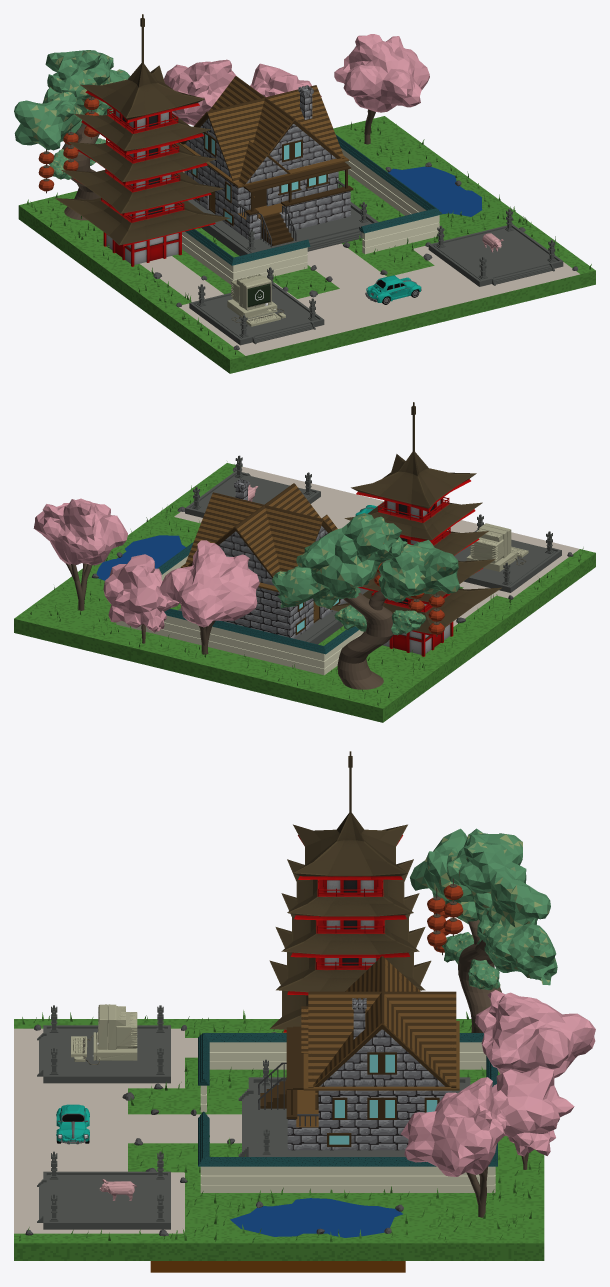
3 renders of one model, top to bottom at view 1: azimuth 30°, elevation 25°; view 2: azimuth 150°, elevation 25°; view 3: azimuth 270°, elevation 25°, orthographic. The views are drawn at different scales.
Visible parts, largest first — view 1: Cube.005, Cube.586, OBJRANDOM_RETRO_PC, VEHICLES_VOLKSWAGEN; view 2: Cube.005, Cube.586, OBJRANDOM_RETRO_PC; view 3: Cube.005, Cube.586, UNDERGROUND_ART_PIECE_VAN_GOGH, OBJRANDOM_RETRO_PC, VEHICLES_VOLKSWAGEN.
Boxes of the visible parts, x1=… form: Cube.005: x1=14, y1=14, x2=595, y2=373; Cube.586: x1=178, y1=76, x2=353, y2=247; OBJRANDOM_RETRO_PC: x1=227, y1=274, x2=285, y2=326; VEHICLES_VOLKSWAGEN: x1=365, y1=275, x2=421, y2=304; Cube.005: x1=14, y1=402, x2=595, y2=722; Cube.586: x1=180, y1=479, x2=345, y2=638; OBJRANDOM_RETRO_PC: x1=466, y1=523, x2=528, y2=571; Cube.005: x1=14, y1=751, x2=595, y2=1260; Cube.586: x1=258, y1=956, x2=459, y2=1150; UNDERGROUND_ART_PIECE_VAN_GOGH: x1=150, y1=1261, x2=405, y2=1272; OBJRANDOM_RETRO_PC: x1=71, y1=1004, x2=137, y2=1064; VEHICLES_VOLKSWAGEN: x1=56, y1=1104, x2=89, y2=1144.
Size of the model in its own units: 4528 by 2816 by 4389.
Materials: 38 (7 with a texture image).
